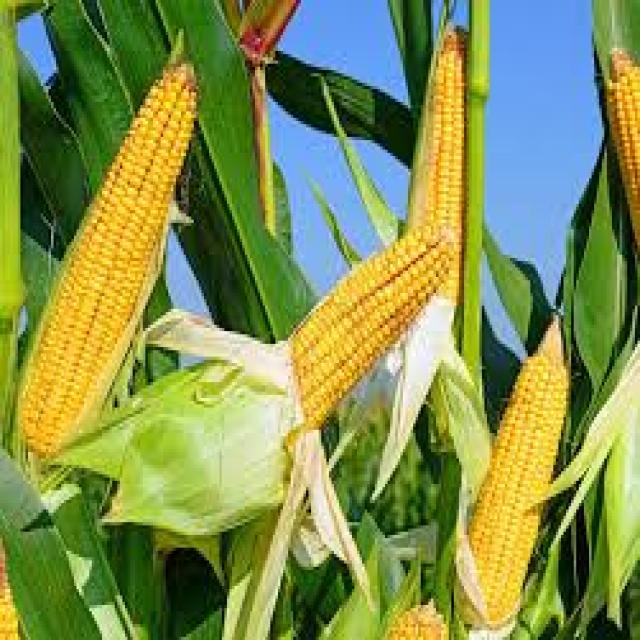corn: (18, 30, 209, 484), (256, 218, 466, 435), (439, 328, 579, 632), (406, 26, 477, 315), (578, 27, 640, 316), (370, 584, 474, 640)
